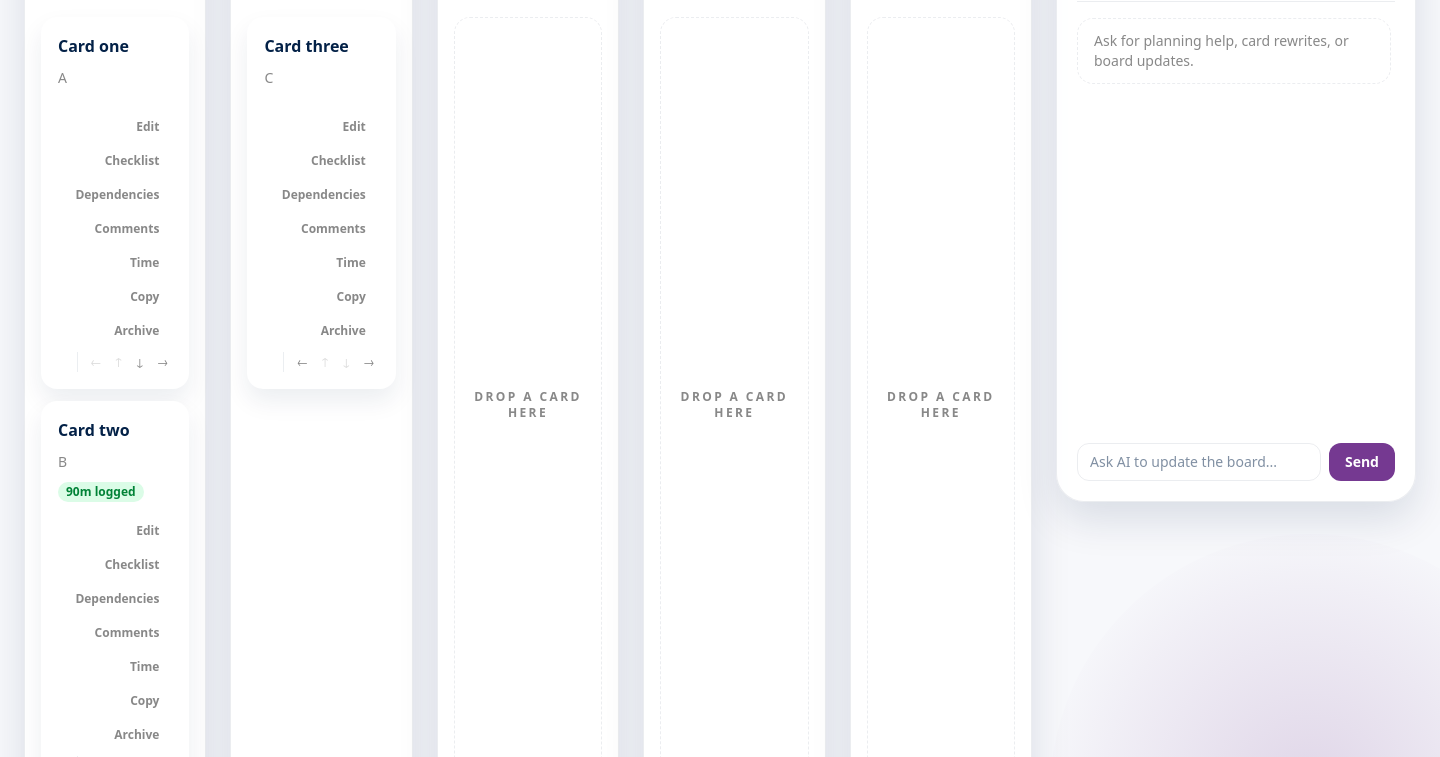
Test case: KanbanBoard › shows error when move card fails
(page scrolled)
Click the button named "move card one right": coordinates (162, 362) [152, 352, 172, 372]
(page scrolled)
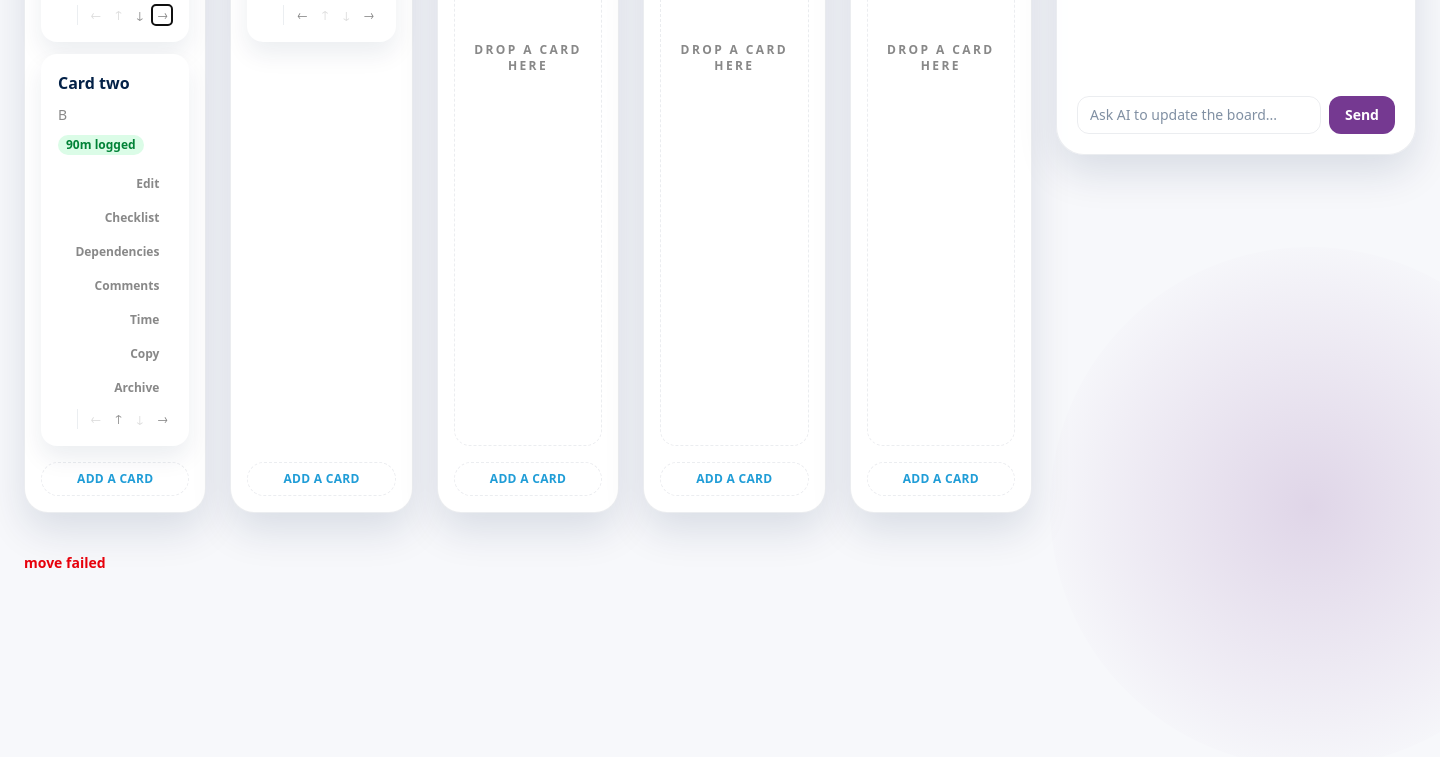
Check: the message reads "move failed", box [24, 553, 106, 572]
